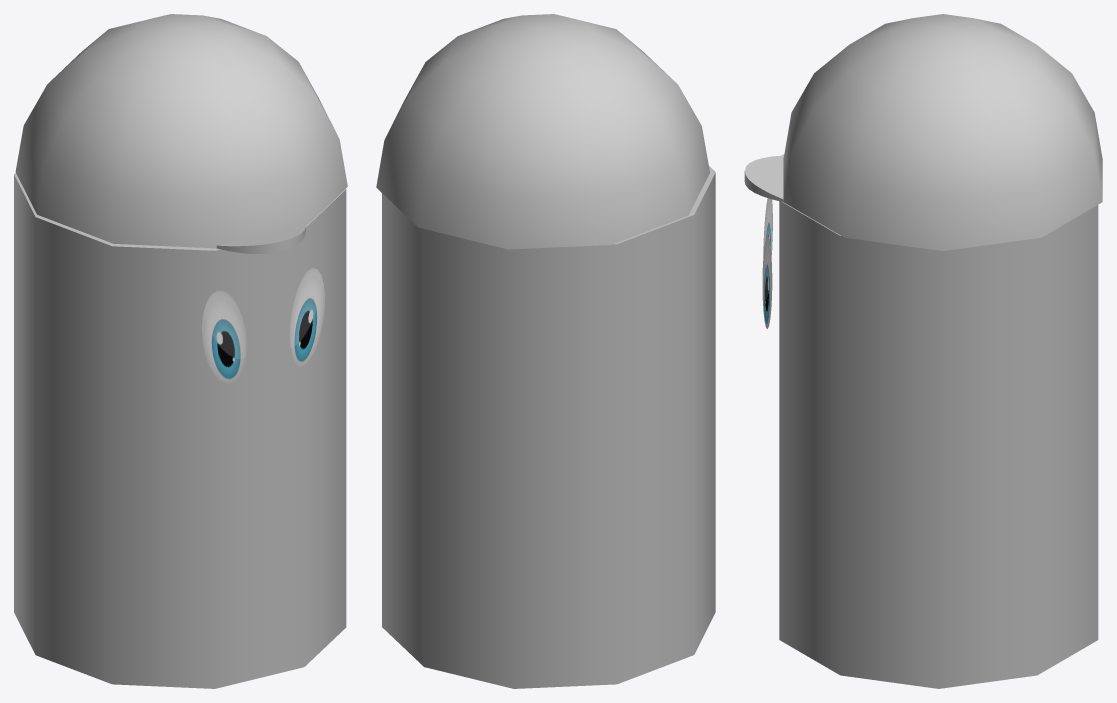
File: BLUE.fbx
3 views of the same model, side by side, from view 1: azimuth 30°, elevation 25°; view 2: azimuth 150°, elevation 25°; view 3: azimuth 270°, elevation 25° (orthographic).
Visible parts, largest first — view 1: Capsule001.001, Object.001, Cylinder001.001, Cylinder002.001, Arc001.001; view 2: Capsule001.001, Object.001; view 3: Capsule001.001, Object.001, Arc001.001, Cylinder002.001.
Part boxes in pixels (x1=…): Capsule001.001: x1=14, y1=173, x2=346, y2=688; Object.001: x1=15, y1=14, x2=347, y2=248; Cylinder001.001: x1=201, y1=290, x2=246, y2=384; Cylinder002.001: x1=289, y1=267, x2=324, y2=366; Arc001.001: x1=216, y1=224, x2=305, y2=253; Capsule001.001: x1=382, y1=166, x2=715, y2=688; Object.001: x1=376, y1=14, x2=709, y2=249; Capsule001.001: x1=779, y1=154, x2=1098, y2=688; Object.001: x1=783, y1=14, x2=1102, y2=250; Arc001.001: x1=744, y1=155, x2=783, y2=201; Cylinder002.001: x1=762, y1=236, x2=772, y2=328.
Bounding box in the file's own units: 60.74 × 117 × 64.08.
